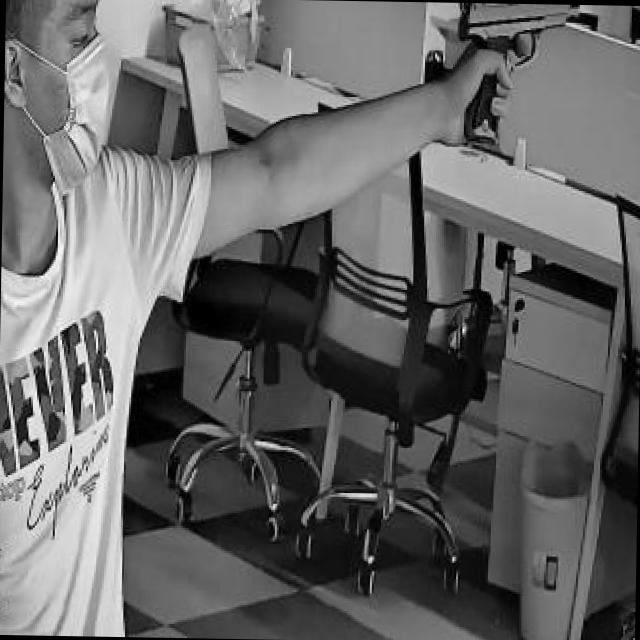Guns: (447, 2, 598, 159)
